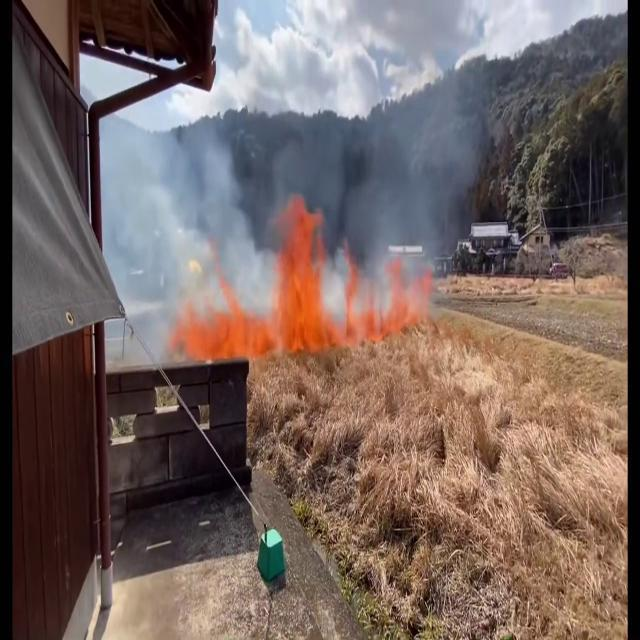Fire: (265, 186, 336, 352), (178, 272, 266, 376)
Smoke: (333, 36, 505, 338), (101, 94, 265, 320)
